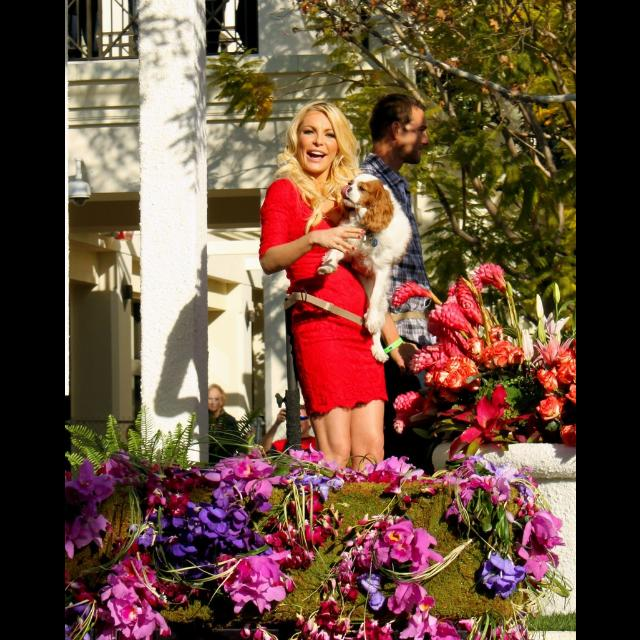Flower: (64, 450, 566, 640), (393, 260, 575, 460), (225, 551, 291, 613), (478, 556, 520, 592)
